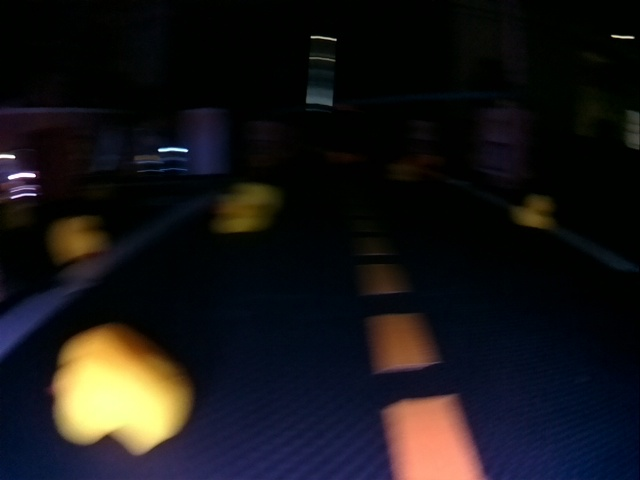Duckie: (52, 327, 192, 454), (211, 183, 276, 232), (51, 215, 105, 261), (512, 194, 552, 228)
